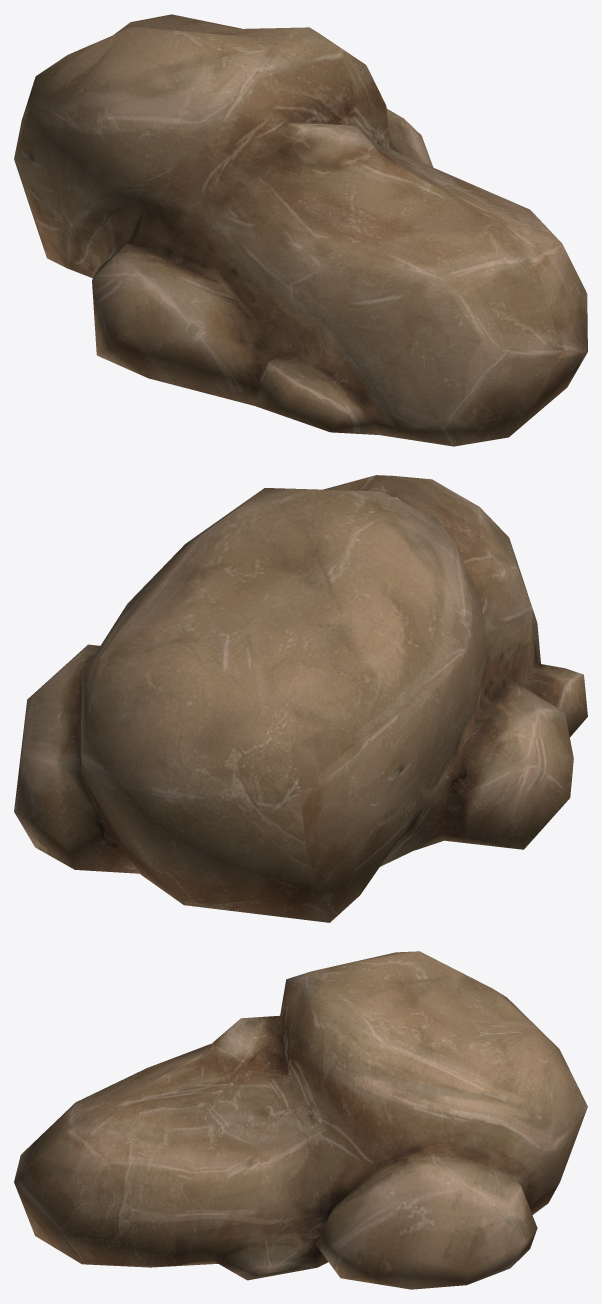
File: modelRock02.fbx
3 renders of one model, top to bottom at view 1: azimuth 30°, elevation 25°; view 2: azimuth 150°, elevation 25°; view 3: azimuth 270°, elevation 25°, orthographic. The views are drawn at different scales.
Parts seen in each view (by area): view 1: modelRock02; view 2: modelRock02; view 3: modelRock02.
Part boxes in pixels (x1,y1,x2,y2): modelRock02: [14, 14, 587, 446]; modelRock02: [14, 475, 587, 922]; modelRock02: [14, 951, 587, 1289].
Bounding box in the file's own units: 14.89 × 10.75 × 23.03.
